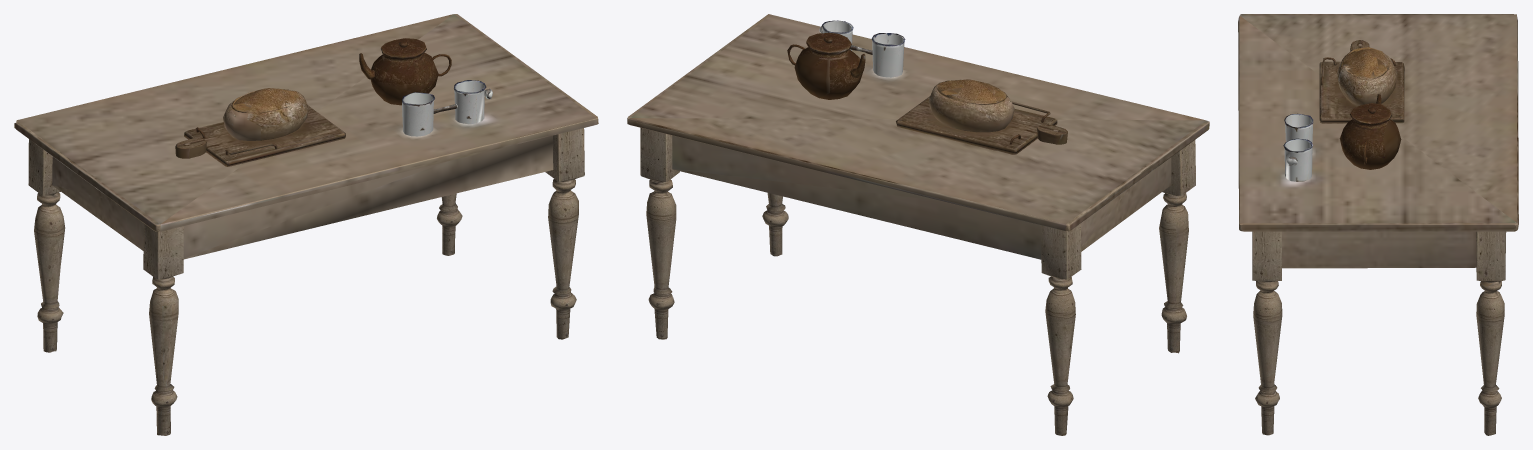
The model's file is kitchen_table_set.glb.
The picture shows the model from 3 angles, left to right: view 1: azimuth 30°, elevation 25°; view 2: azimuth 150°, elevation 25°; view 3: azimuth 270°, elevation 25°; orthographic projection. The views are drawn at different scales.
Size of the model in its own units: 1.6 by 0.9722 by 0.9011.
Materials: 1 (1 with a texture image).
